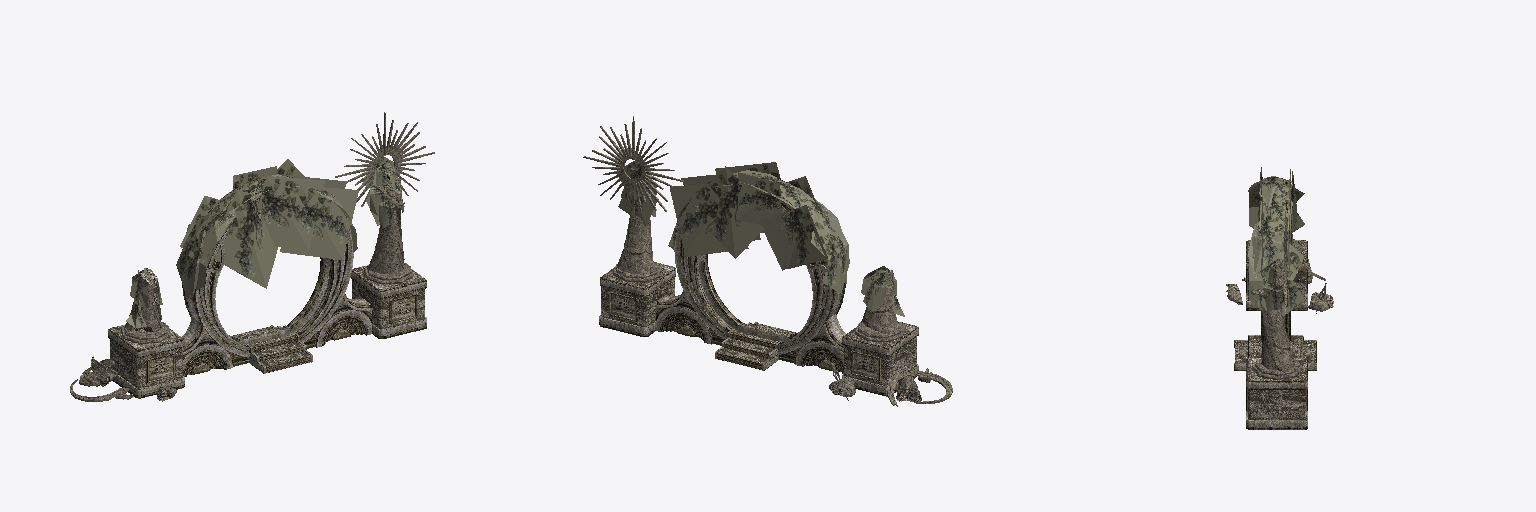
The picture shows the model from 3 angles: view 1: azimuth 30°, elevation 25°; view 2: azimuth 150°, elevation 25°; view 3: azimuth 270°, elevation 25°; orthographic projection.
Visible parts, largest first — view 1: 02_kusa_a_MERGE___00, 03_godgate_a__03, 03_godgate_a__05, 03_godgate_a__00, 00_kenjya_a_MERGE___00, 01_majo_a_MERGE___00, 00_kenjya_a_MERGE___01, 03_godgate_a__02, 03_godgate_a__07, 03_godgate_a__06, 03_godgate_a__08, 03_godgate_a__04 (+1 smaller); view 2: 02_kusa_a_MERGE___00, 03_godgate_a__03, 03_godgate_a__05, 03_godgate_a__00, 00_kenjya_a_MERGE___01, 00_kenjya_a_MERGE___00, 01_majo_a_MERGE___00, 03_godgate_a__07, 03_godgate_a__02, 03_godgate_a__06, 03_godgate_a__08, 03_godgate_a__04 (+2 smaller); view 3: 02_kusa_a_MERGE___00, 03_godgate_a__03, 00_kenjya_a_MERGE___00, 03_godgate_a__07, 01_majo_a_MERGE___00.
Part boxes in pixels (left/top/right/bottom): 02_kusa_a_MERGE___00: left=126, top=156, right=404, bottom=327; 03_godgate_a__03: left=110, top=265, right=424, bottom=388; 03_godgate_a__05: left=182, top=294, right=372, bottom=376; 03_godgate_a__00: left=182, top=176, right=353, bottom=356; 00_kenjya_a_MERGE___00: left=364, top=163, right=413, bottom=284; 01_majo_a_MERGE___00: left=79, top=276, right=176, bottom=400; 00_kenjya_a_MERGE___01: left=335, top=112, right=434, bottom=206; 03_godgate_a__02: left=108, top=329, right=184, bottom=398; 03_godgate_a__07: left=351, top=270, right=426, bottom=338; 03_godgate_a__06: left=237, top=325, right=312, bottom=373; 03_godgate_a__08: left=199, top=208, right=351, bottom=350; 03_godgate_a__04: left=149, top=297, right=414, bottom=379; 02_kusa_a_MERGE___00: left=617, top=159, right=904, bottom=316; 03_godgate_a__03: left=601, top=262, right=916, bottom=385; 03_godgate_a__05: left=655, top=290, right=845, bottom=373; 03_godgate_a__00: left=674, top=173, right=845, bottom=353; 00_kenjya_a_MERGE___01: left=583, top=116, right=683, bottom=221; 00_kenjya_a_MERGE___00: left=613, top=168, right=661, bottom=282; 01_majo_a_MERGE___00: left=829, top=270, right=931, bottom=396; 03_godgate_a__07: left=599, top=267, right=675, bottom=336; 03_godgate_a__02: left=842, top=327, right=918, bottom=396; 03_godgate_a__06: left=715, top=322, right=791, bottom=370; 03_godgate_a__08: left=677, top=204, right=828, bottom=347; 03_godgate_a__04: left=612, top=295, right=877, bottom=377; 02_kusa_a_MERGE___00: left=1248, top=167, right=1304, bottom=316; 03_godgate_a__03: left=1235, top=240, right=1315, bottom=419; 00_kenjya_a_MERGE___00: left=1251, top=260, right=1302, bottom=379; 03_godgate_a__07: left=1246, top=359, right=1307, bottom=429; 01_majo_a_MERGE___00: left=1226, top=239, right=1332, bottom=311.
Bounding box in the file's own units: 14.91 × 8.57 × 3.85.
Materials: 7 (7 with a texture image).